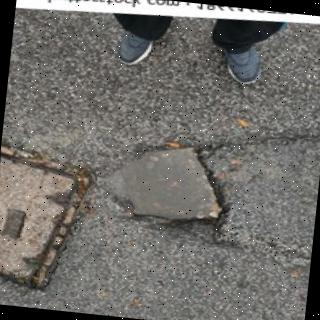pothole: (102, 147, 229, 236)
